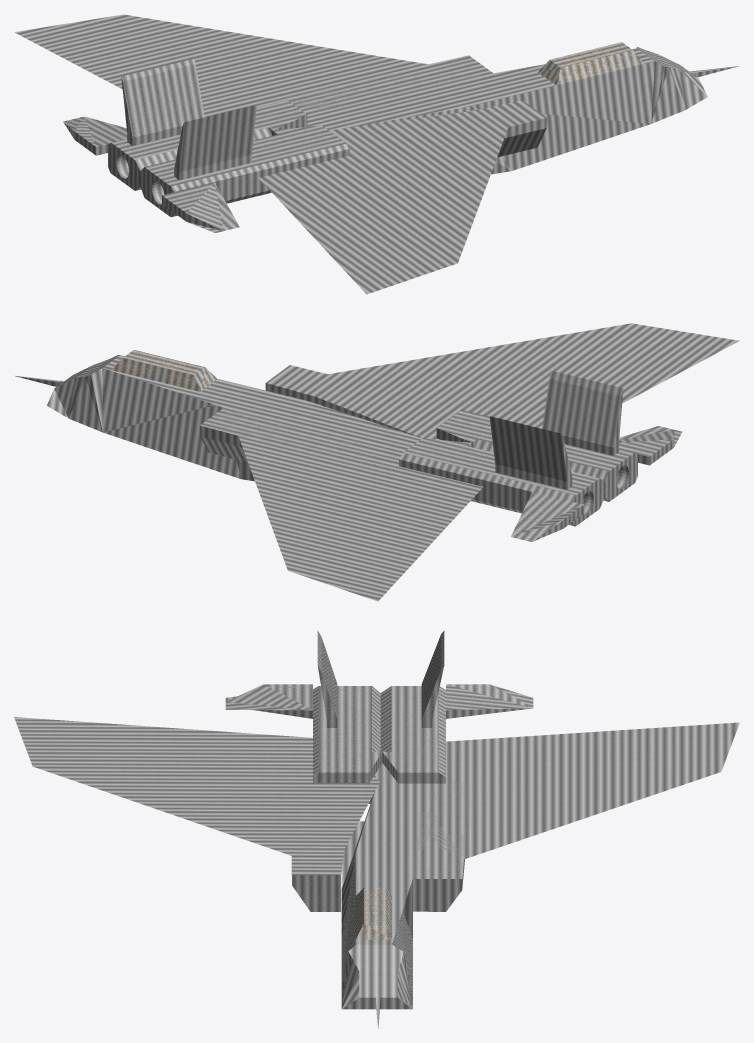
The picture shows the model from 3 angles, top to bottom: view 1: azimuth 30°, elevation 25°; view 2: azimuth 150°, elevation 25°; view 3: azimuth 270°, elevation 25°; orthographic projection. The views are drawn at different scales.
Parts seen in each view (by area): view 1: mesh1_mesh1-geometry, mesh2_mesh2-geometry, mesh3_mesh3-geometry, mesh4_mesh4-geometry, mesh5_mesh5-geometry, mesh6_mesh6-geometry; view 2: mesh1_mesh1-geometry, mesh2_mesh2-geometry, mesh3_mesh3-geometry, mesh5_mesh5-geometry, mesh4_mesh4-geometry, mesh6_mesh6-geometry; view 3: mesh1_mesh1-geometry, mesh2_mesh2-geometry, mesh3_mesh3-geometry, mesh5_mesh5-geometry, mesh4_mesh4-geometry, mesh6_mesh6-geometry.
Boxes of the visible parts, x1,y1,x2,y2 form: mesh1_mesh1-geometry: (14,14,739,174); mesh2_mesh2-geometry: (258,100,546,294); mesh3_mesh3-geometry: (108,59,349,217); mesh4_mesh4-geometry: (162,182,239,232); mesh5_mesh5-geometry: (63,116,127,155); mesh6_mesh6-geometry: (497,118,546,157); mesh1_mesh1-geometry: (14,350,482,601); mesh2_mesh2-geometry: (266,323,739,439); mesh3_mesh3-geometry: (399,371,637,526); mesh5_mesh5-geometry: (511,492,584,541); mesh4_mesh4-geometry: (619,426,682,465); mesh6_mesh6-geometry: (265,383,420,437); mesh1_mesh1-geometry: (341,722,739,1028); mesh2_mesh2-geometry: (14,717,379,874); mesh3_mesh3-geometry: (313,630,445,803); mesh5_mesh5-geometry: (446,684,533,718); mesh4_mesh4-geometry: (225,684,312,718); mesh6_mesh6-geometry: (292,875,340,911).
Bounding box in the file's own units: 0.692 × 0.1519 × 0.7057.
